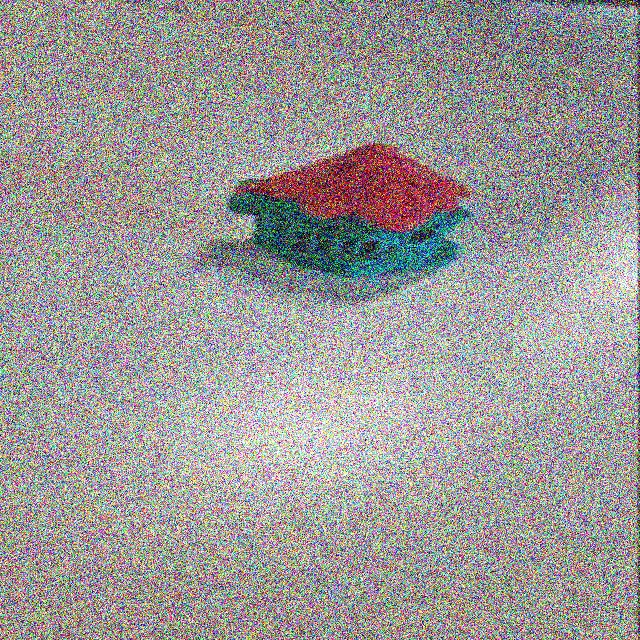House: (176, 133, 484, 309)
